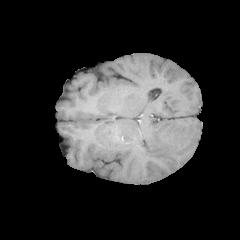glioma: (142, 121, 194, 165)
